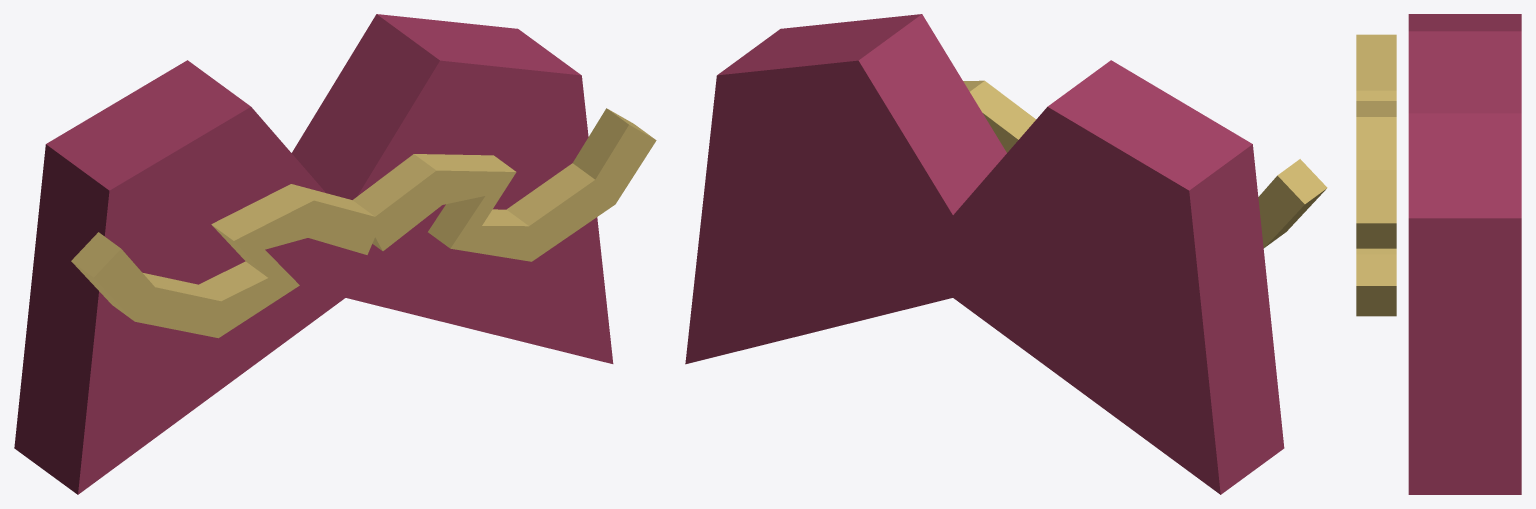
Rendered from high_cloud.obj.
3 views of the same model, side by side, from view 1: azimuth 30°, elevation 25°; view 2: azimuth 150°, elevation 25°; view 3: azimuth 270°, elevation 25° (orthographic). The views are drawn at different scales.
Visible parts, largest first — view 1: high_collar, high_collar_edge, collar_cloud_left, collar_cloud_right, collar_cloud_right_edge, collar_cloud_left_edge; view 2: high_collar, high_collar_edge, collar_cloud_right_edge, collar_cloud_left, collar_cloud_left_edge; view 3: high_collar_edge, collar_cloud_right_edge, collar_cloud_left_edge.
Boxes of the visible parts, bbox=[...] form: high_collar: bbox=[78, 60, 613, 494]; high_collar_edge: bbox=[14, 14, 580, 494]; collar_cloud_left: bbox=[94, 200, 382, 338]; collar_cloud_right: bbox=[368, 125, 656, 261]; collar_cloud_right_edge: bbox=[353, 108, 655, 250]; collar_cloud_left_edge: bbox=[71, 184, 374, 320]; high_collar: bbox=[685, 60, 1220, 494]; high_collar_edge: bbox=[717, 14, 1284, 494]; collar_cloud_right_edge: bbox=[963, 80, 1035, 139]; collar_cloud_left: bbox=[1258, 175, 1304, 248]; collar_cloud_left_edge: bbox=[1264, 159, 1327, 247]; high_collar_edge: bbox=[1408, 14, 1521, 494]; collar_cloud_right_edge: bbox=[1356, 170, 1396, 316]; collar_cloud_left_edge: bbox=[1356, 34, 1396, 169].
Size of the model in its own units: 0.7149 by 0.42 by 0.205.
